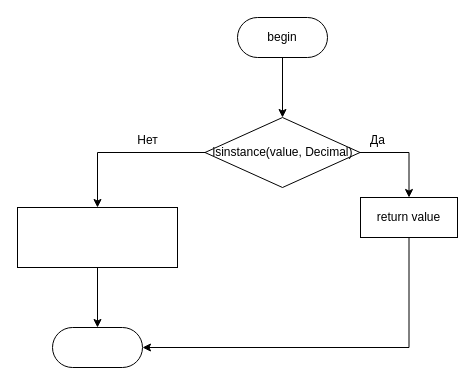
Image size: 475x385. Some labels were removed from this diagram. Here are the shapes that lost their labels. From the top down, the centre of each, then its label:
[97,237]: return Decimal(str(value))
[97,347]: end
